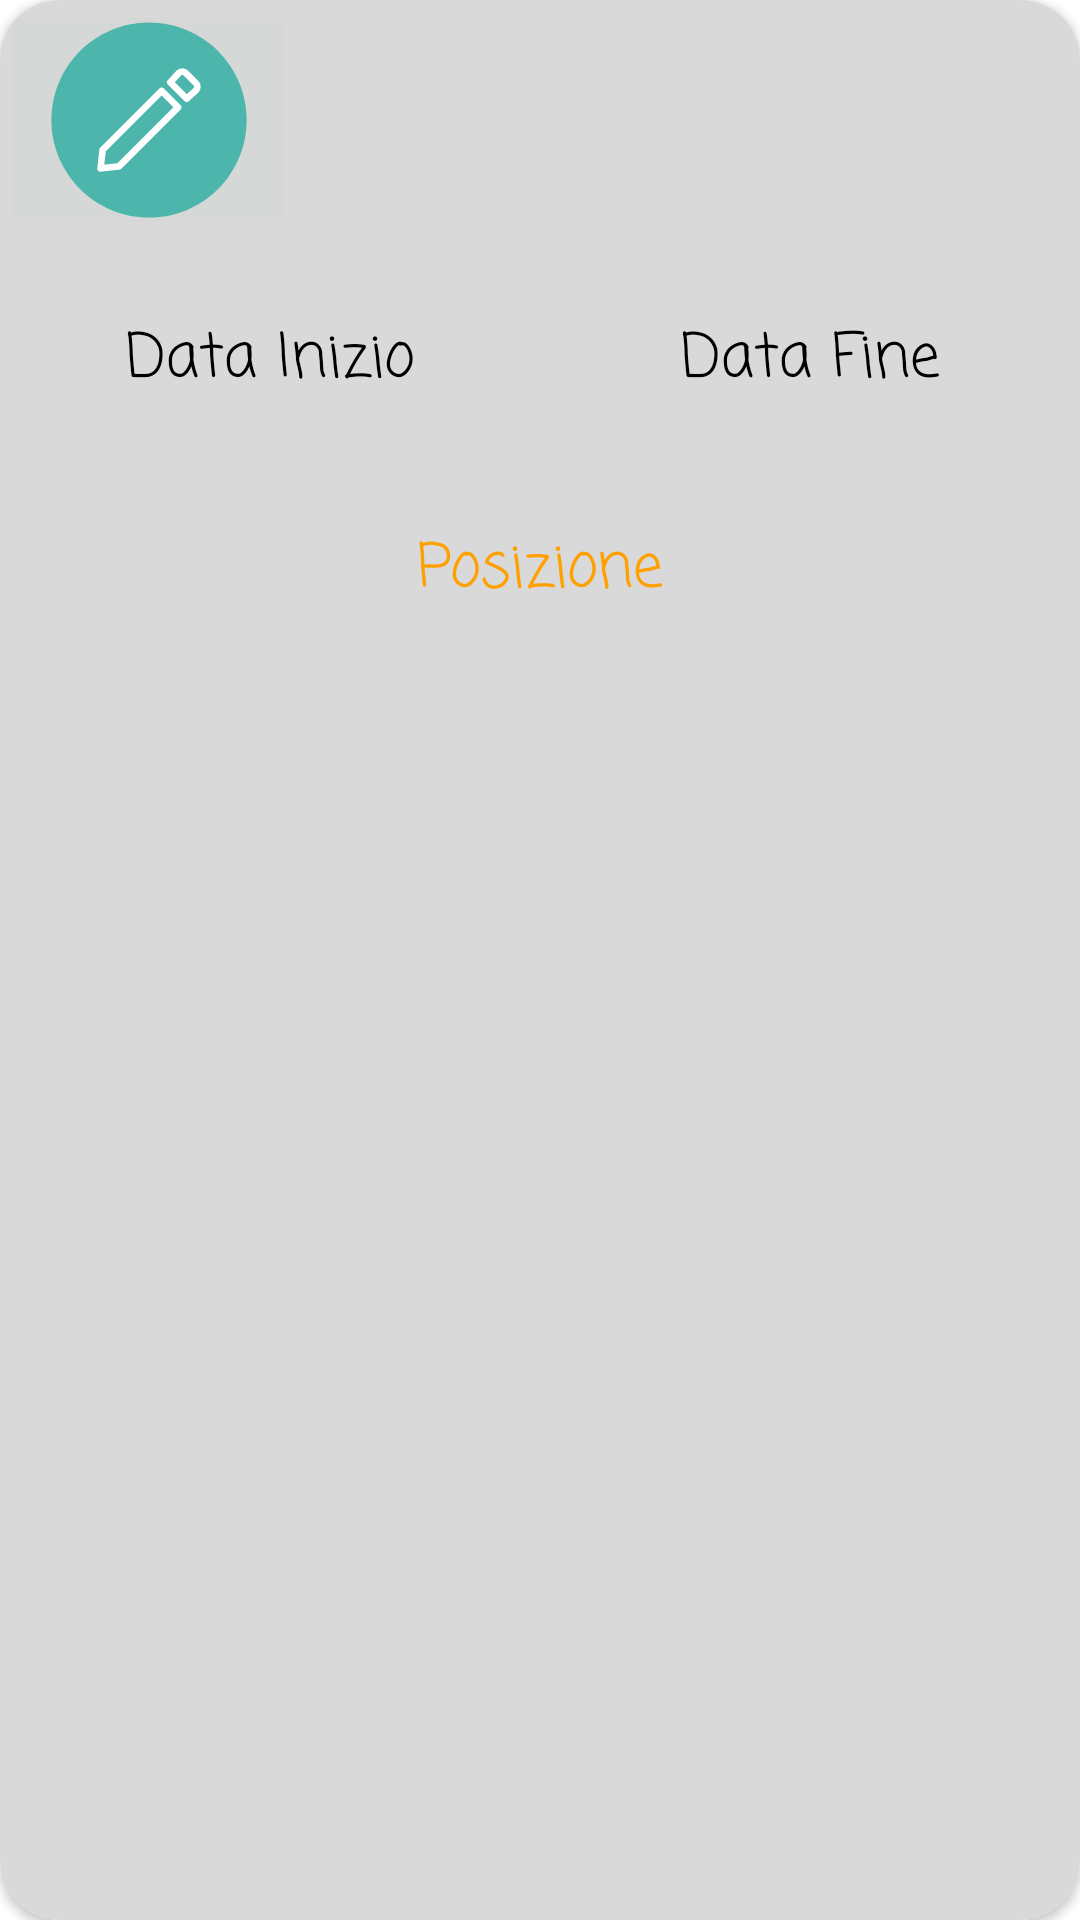

Where to tap for icons on this 1080 x 1920 app screen, as (x,y):
style circle edit: (123,109)
